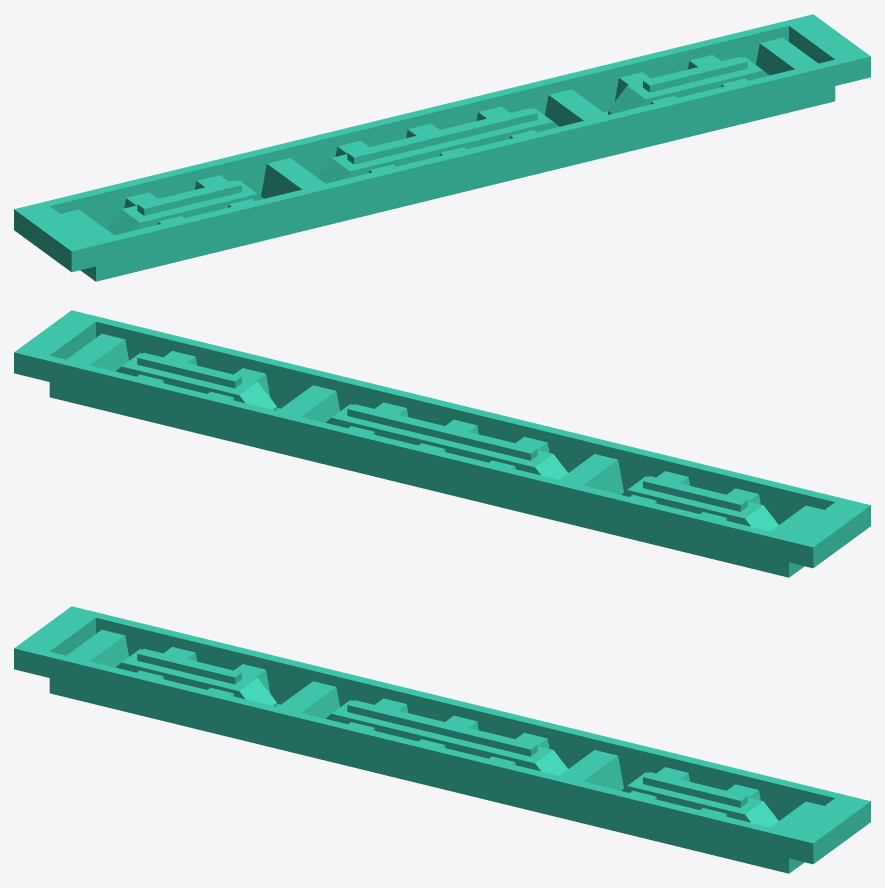
File: Floor_A_4x05m.FBX
The picture shows the model from 3 angles, top to bottom: view 1: azimuth 30°, elevation 25°; view 2: azimuth 150°, elevation 25°; view 3: azimuth 330°, elevation 25°; orthographic projection.
Parts seen in each view (by area): view 1: Floor_A_4x05m; view 2: Floor_A_4x05m; view 3: Floor_A_4x05m.
Boxes of the visible parts, bbox=[...] form: Floor_A_4x05m: bbox=[14, 14, 870, 281]; Floor_A_4x05m: bbox=[14, 310, 870, 577]; Floor_A_4x05m: bbox=[14, 606, 870, 873].
Bounding box in the file's own units: 400 × 20 × 50.
